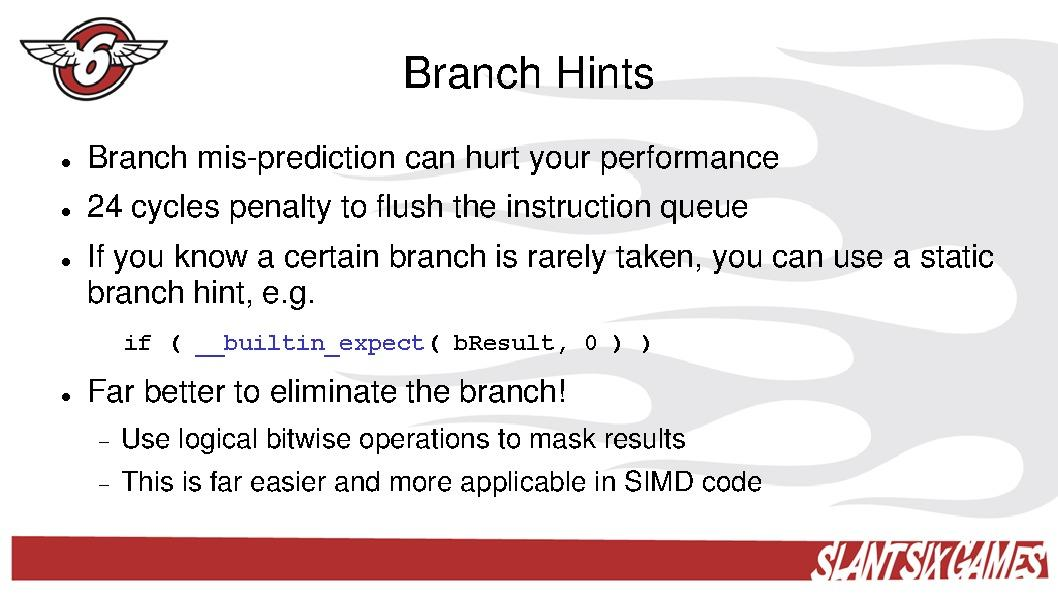paragraph: (53, 126, 1012, 515)
subtitle: (803, 537, 1058, 595)
title: (396, 35, 668, 111)
